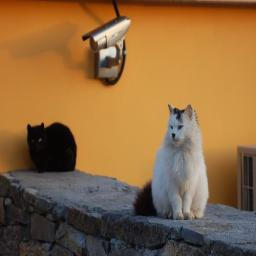catnose: (171, 132, 177, 140), (34, 145, 39, 150)
